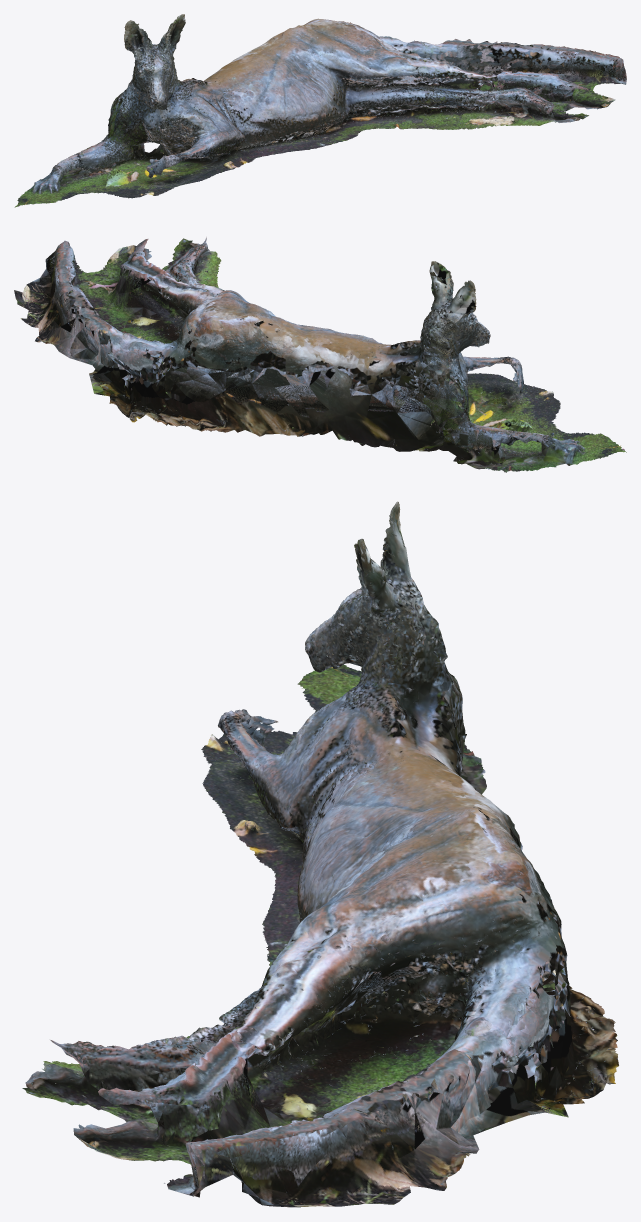
The model's file is model-osphranter-rufus.glb.
3 renders of one model, top to bottom at view 1: azimuth 30°, elevation 25°; view 2: azimuth 150°, elevation 25°; view 3: azimuth 270°, elevation 25°, orthographic. The views are drawn at different scales.
Visible parts, largest first — view 1: copy_0; view 2: copy_0; view 3: copy_0.
Part boxes in pixels (box(x1,y1,x2,y2)): copy_0: box(14, 14, 626, 207); copy_0: box(14, 237, 626, 472); copy_0: box(22, 501, 618, 1207).
Bounding box in the file's own units: 4.56 × 1.22 × 2.02.
Materials: 1 (1 with a texture image).
